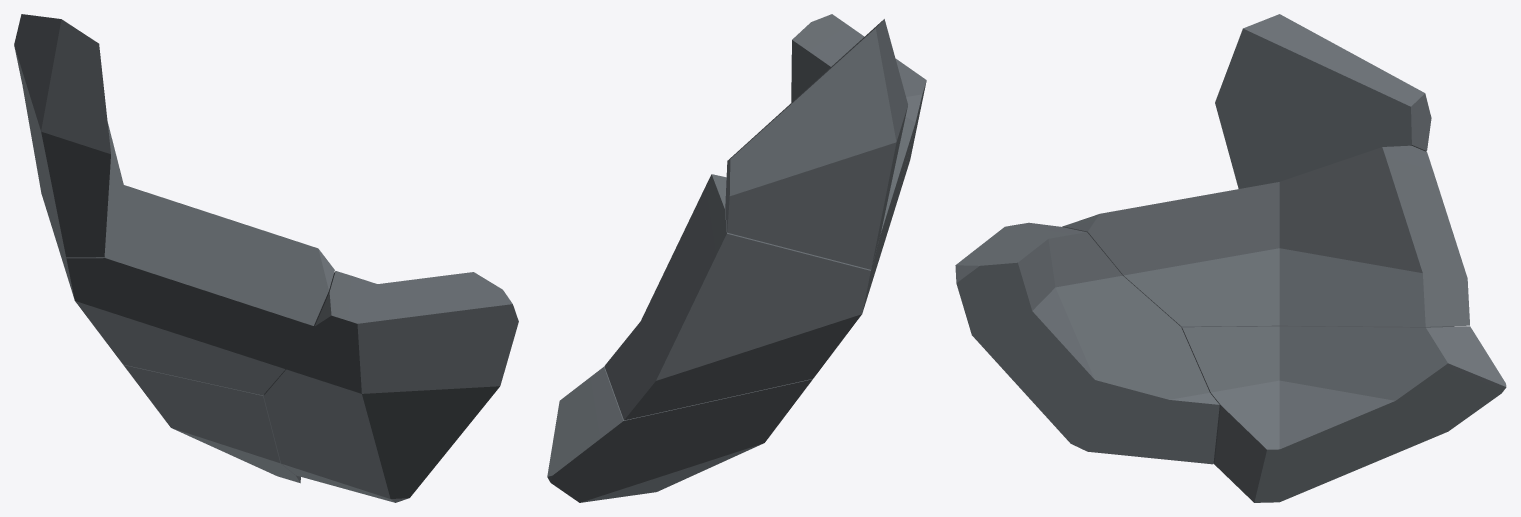
File: Sphere_Fracture_12.DAE
3 views of the same model, side by side, from view 1: azimuth 30°, elevation 25°; view 2: azimuth 150°, elevation 25°; view 3: azimuth 270°, elevation 25° (orthographic). The views are drawn at different scales.
Visible parts, largest first — view 1: Sphere_Fracture_12; view 2: Sphere_Fracture_12; view 3: Sphere_Fracture_12.
Part boxes in pixels (bbox=[...]): Sphere_Fracture_12: bbox=[14, 14, 518, 502]; Sphere_Fracture_12: bbox=[547, 14, 926, 502]; Sphere_Fracture_12: bbox=[955, 14, 1506, 502].
Bounding box in the file's own units: 0.7325 × 1.3 × 1.61.
Materials: 2 (2 with a texture image).
